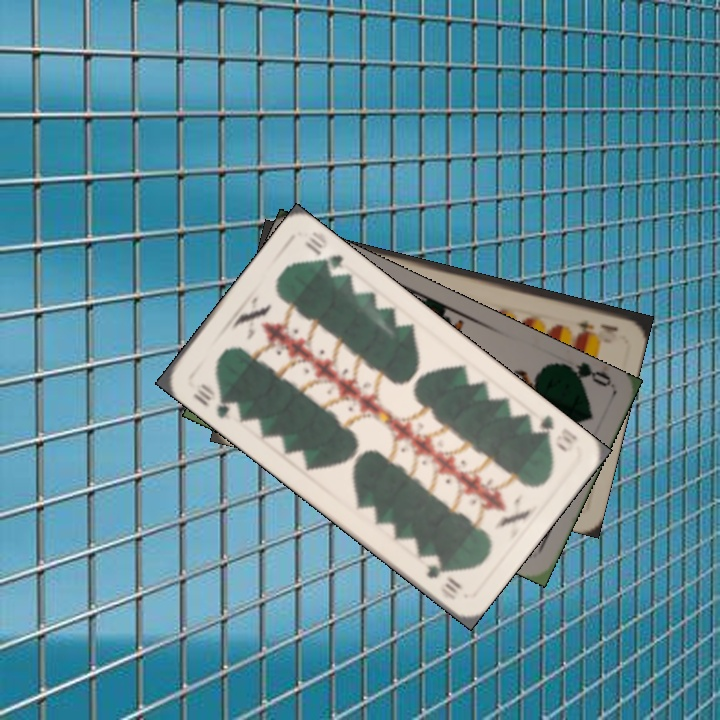E10: (571, 316, 621, 338)
G10: (525, 410, 581, 455), (188, 379, 242, 423)
GO: (555, 358, 614, 390)
